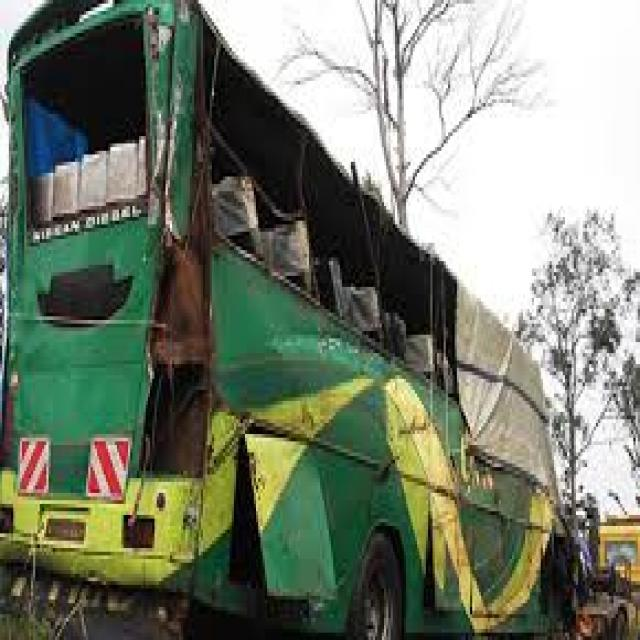accident: (12, 11, 596, 640)
